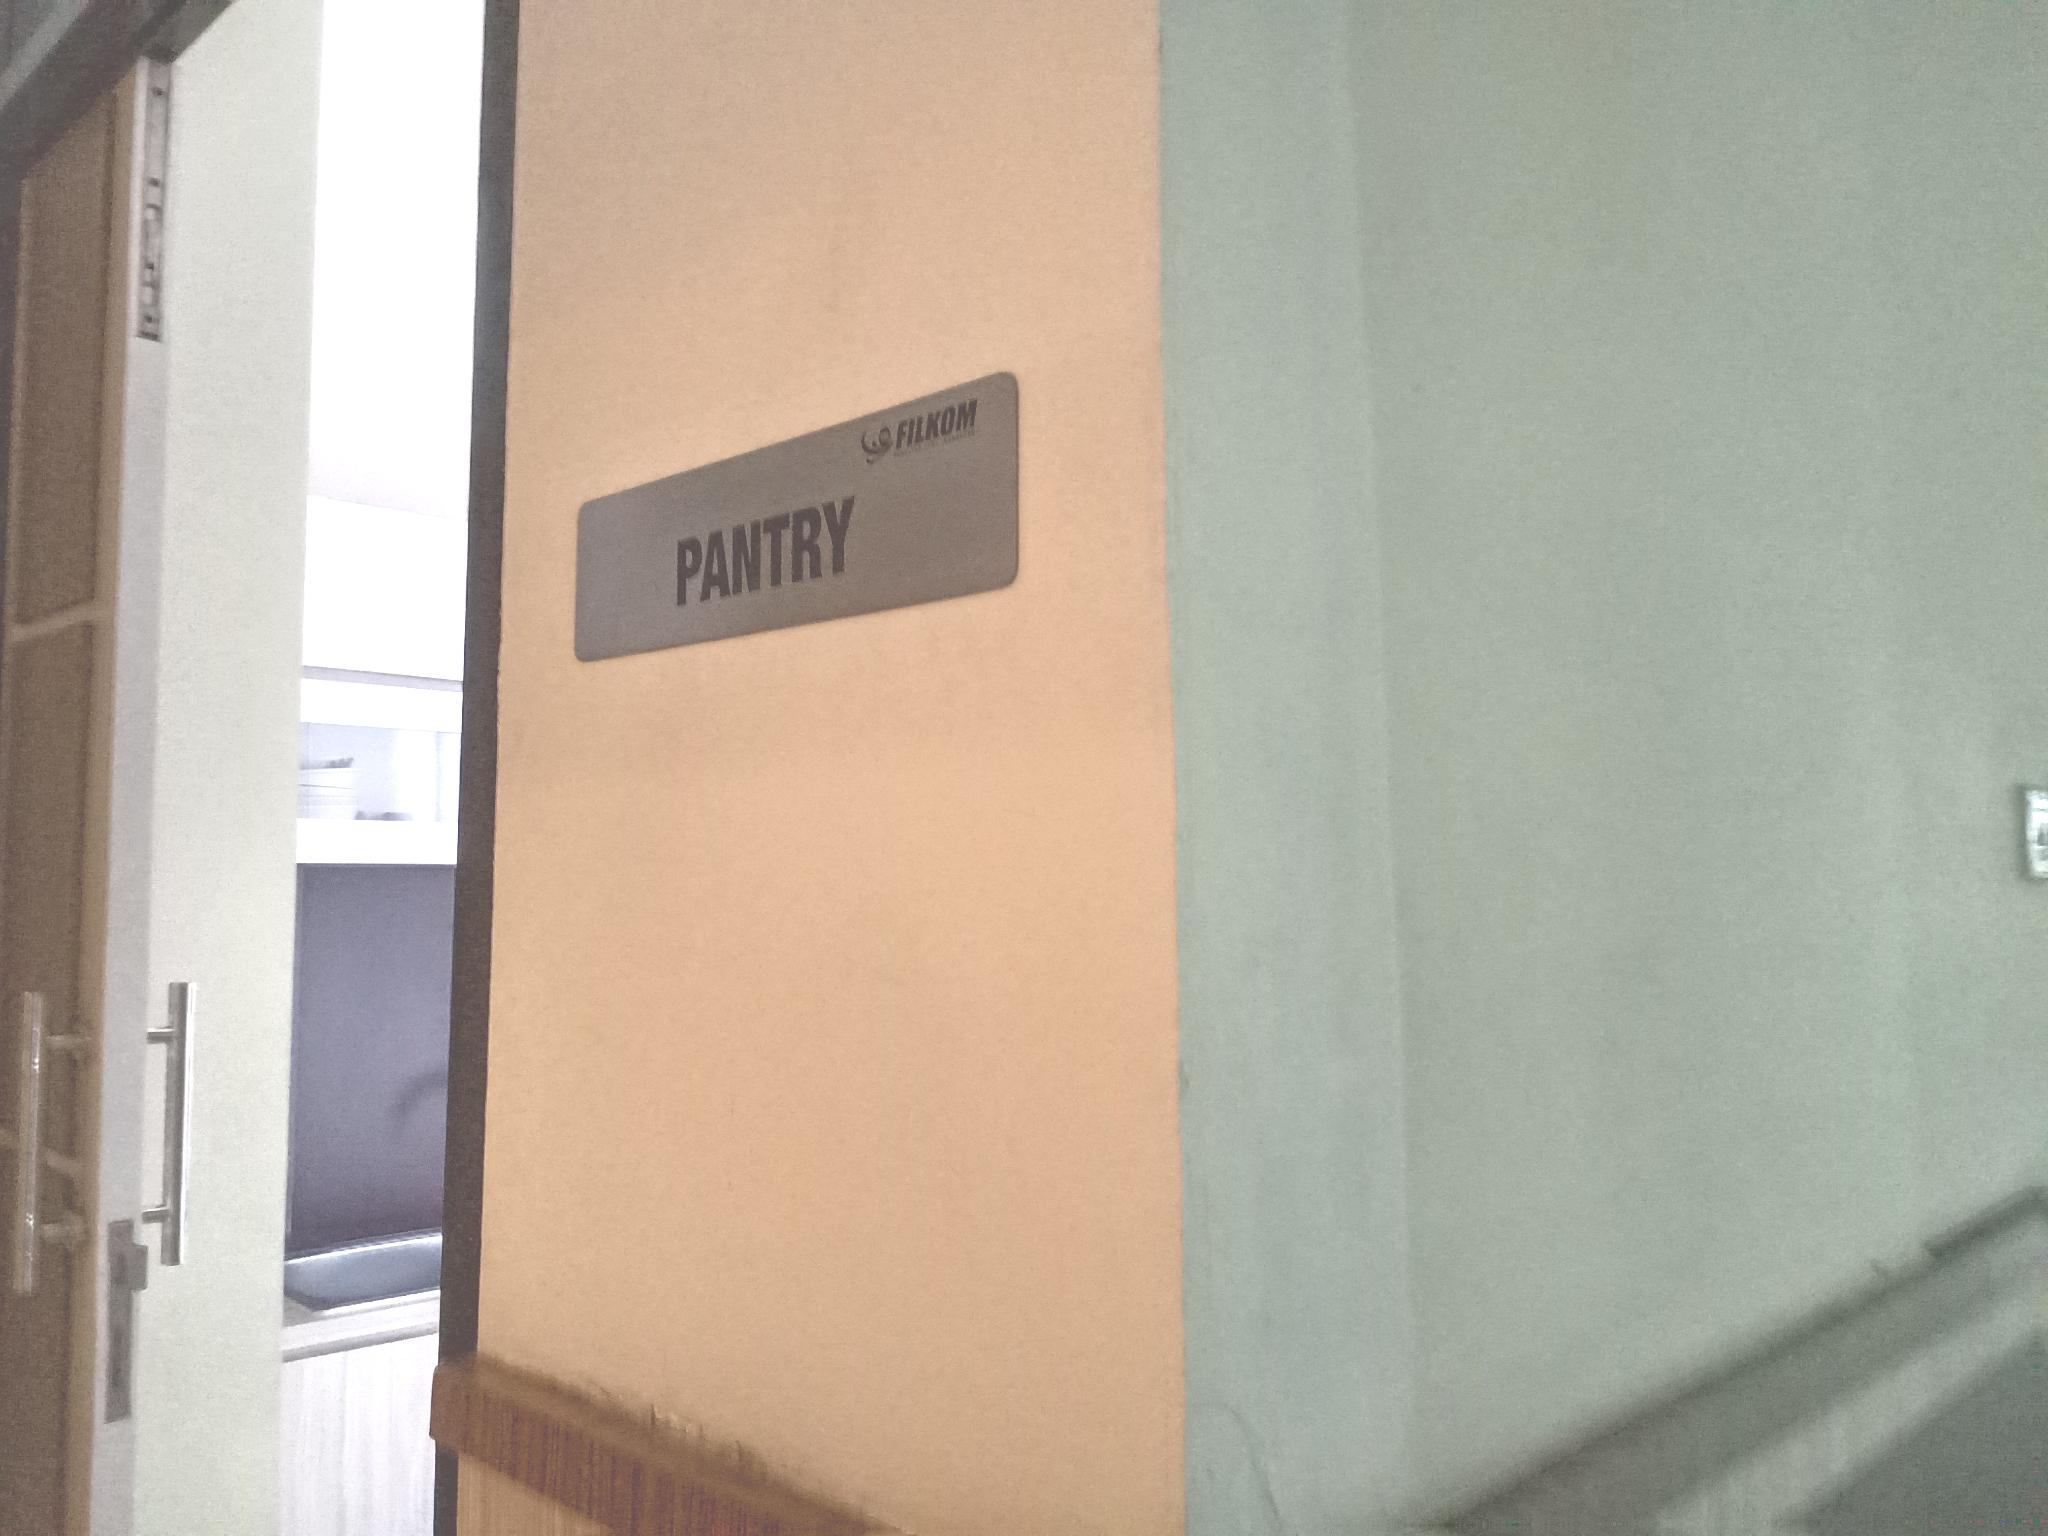plate: (574, 369, 1021, 662)
